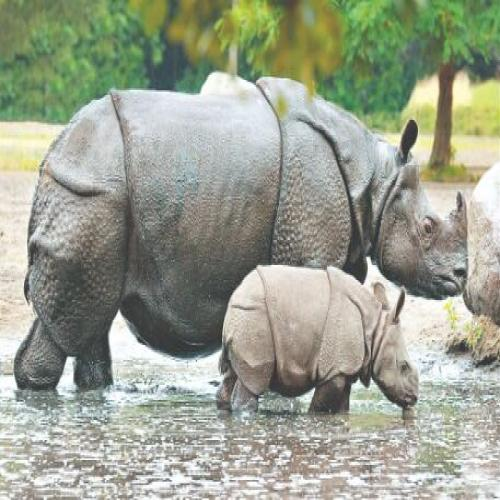rhino-endangered: (14, 74, 468, 390), (215, 262, 422, 416)
